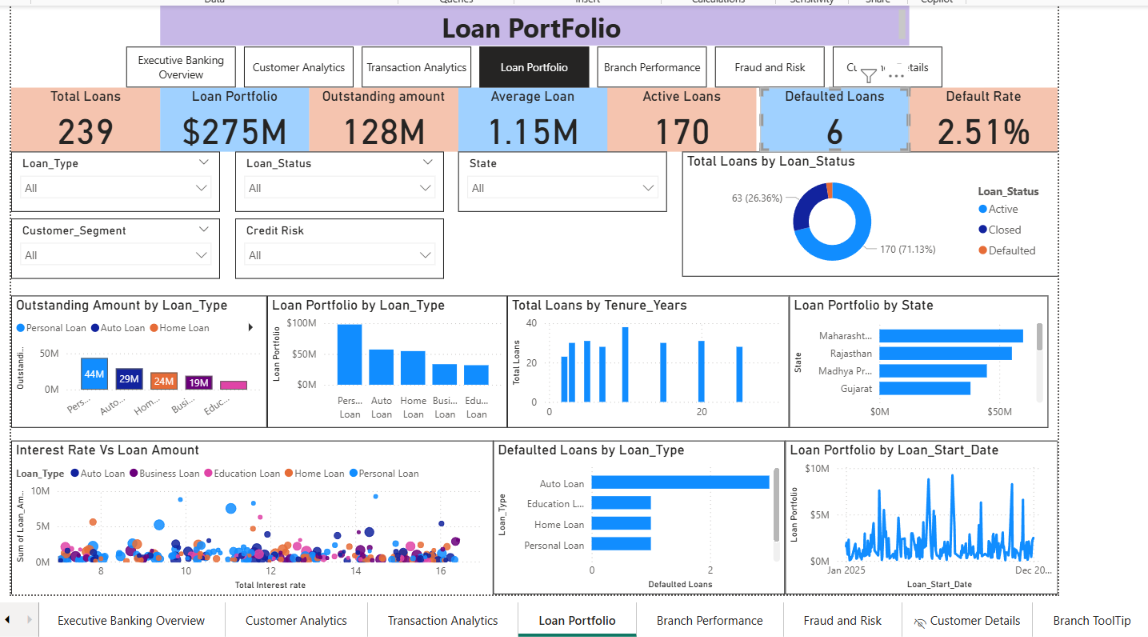

The dashboard page shown, as its layout file describes it:
{"tool":"powerbi","page":{"name":"Loan Portfolio","canvas":[1280,720],"ordinal":3},"visuals":[{"type":"card","title":"Total Loans","fields":{"Values":["Loans.Total Loans"]},"box":[0,100.3,182.2,78.3],"z":0},{"type":"card","title":"Loan Portfolio","fields":{"Values":["Loans.Loan Portfolio"]},"box":[182.2,100.3,182.2,78.3],"z":1000},{"type":"card","title":"Default Rate","fields":{"Values":["Loans.Default Rate"]},"box":[1098.1,100.3,182.2,78.3],"z":2000},{"type":"card","title":"Defaulted Loans","fields":{"Values":["Loans.Defaulted Loans"]},"box":[915.9,100.3,182.2,78.3],"z":3000},{"type":"card","title":"Active Loans","fields":{"Values":["Loans.Active Loans"]},"box":[728.8,100.3,182.2,78.3],"z":4000},{"type":"card","title":"Average Loan","fields":{"Values":["Loans.Average Loan"]},"box":[546.6,100.3,182.2,78.3],"z":5000},{"type":"card","title":"Outstanding amount","fields":{"Values":["Loans.Outstanding Amount"]},"box":[364.4,100.3,182.2,78.3],"z":6000},{"type":"textbox","box":[182.2,0,915.9,48.9],"z":7000},{"type":"columnChart","fields":{"Category":["Loans.Loan_Type"],"Y":["Loans.Loan Portfolio"]},"box":[313,354.8,293.6,161.4],"z":8000},{"type":"columnChart","title":"Outstanding Amount by Loan_Type ","fields":{"Category":["Loans.Loan_Type"],"Y":["Loans.Outstanding Amount"],"Series":["Loans.Loan_Type"]},"box":[0,354.8,313,161.4],"z":9000},{"type":"donutChart","fields":{"Category":["Loans.Loan_Status"],"Y":["Loans.Total Loans"]},"box":[820.5,188.3,459.8,143.1],"z":10000},{"type":"barChart","fields":{"Y":["Loans.Loan Portfolio"],"Category":["Customers.State"]},"box":[951.4,354.6,316.7,161.4],"z":11000},{"type":"scatterChart","title":"Interest Rate Vs Loan Amount","fields":{"Y":["Sum(Loans.Loan_Amount_INR)"],"X":["Sum(Loans.Interest_Rate_Pct)"],"Category":["Loans.Loan_ID"],"Series":["Loans.Loan_Type"],"Size":["Sum(Loans.Tenure_Years)"]},"box":[0,531.5,589.9,189.2],"z":12000},{"type":"clusteredColumnChart","fields":{"Y":["Loans.Total Loans"],"Category":["Loans.Tenure_Years"]},"box":[606.5,354.6,344.8,161.4],"z":13000},{"type":"lineChart","fields":{"Y":["Loans.Loan Portfolio"],"Category":["Loans.Loan_Start_Date.Variation.Date Hierarchy.Year"]},"box":[946.1,537,333.9,183.7],"z":14000},{"type":"barChart","fields":{"Y":["Loans.Defaulted Loans"],"Category":["Loans.Loan_Type"]},"box":[589.9,537,356.2,183.7],"z":15000},{"type":"slicer","fields":{"Values":["Loans.Loan_Type"]},"box":[0,178.5,255.6,73.4],"z":18000},{"type":"slicer","fields":{"Values":["Loans.Loan_Status"]},"box":[273.9,178.5,255.6,73.4],"z":19000},{"type":"slicer","fields":{"Values":["Customers.State"]},"box":[546.6,178.5,255.6,73.4],"z":20000},{"type":"slicer","fields":{"Values":["Customers.Customer_Segment"]},"box":[0,260.5,255.6,73.4],"z":21000},{"type":"slicer","fields":{"Values":["Customers.Credit Risk"]},"box":[273.9,260.5,255.6,73.4],"z":22000},{"type":"pageNavigator","box":[140.6,50.1,1000.3,50.1],"z":22001}]}

Visuals, with their boxes on the page's 1280x720 design canvas (x1, y1, x2, y2). These are canvas units, not pixel positions in the 1148x637 screenshot, which may show the page scaled, cropped or inside an application window:
"Total Loans" card: left=0, top=100, right=182, bottom=179
"Loan Portfolio" card: left=182, top=100, right=364, bottom=179
"Default Rate" card: left=1098, top=100, right=1280, bottom=179
"Defaulted Loans" card: left=916, top=100, right=1098, bottom=179
"Active Loans" card: left=729, top=100, right=911, bottom=179
"Average Loan" card: left=547, top=100, right=729, bottom=179
"Outstanding amount" card: left=364, top=100, right=547, bottom=179
textbox: left=182, top=0, right=1098, bottom=49
columnChart - Loans.Loan_Type x Loans.Loan Portfolio: left=313, top=355, right=607, bottom=516
"Outstanding Amount by Loan_Type " columnChart: left=0, top=355, right=313, bottom=516
donutChart - Loans.Loan_Status x Loans.Total Loans: left=820, top=188, right=1280, bottom=331
barChart - Loans.Loan Portfolio x Customers.State: left=951, top=355, right=1268, bottom=516
"Interest Rate Vs Loan Amount" scatterChart: left=0, top=532, right=590, bottom=721
clusteredColumnChart - Loans.Total Loans x Loans.Tenure_Years: left=606, top=355, right=951, bottom=516
lineChart - Loans.Loan Portfolio x Loans.Loan_Start_Date.Variation.Date Hierarchy.Year: left=946, top=537, right=1280, bottom=721
barChart - Loans.Defaulted Loans x Loans.Loan_Type: left=590, top=537, right=946, bottom=721
slicer - Loans.Loan_Type: left=0, top=178, right=256, bottom=252
slicer - Loans.Loan_Status: left=274, top=178, right=530, bottom=252
slicer - Customers.State: left=547, top=178, right=802, bottom=252
slicer - Customers.Customer_Segment: left=0, top=260, right=256, bottom=334
slicer - Customers.Credit Risk: left=274, top=260, right=530, bottom=334
pageNavigator: left=141, top=50, right=1141, bottom=100
